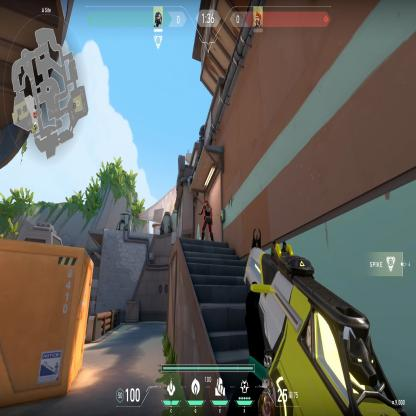enemy: (198, 196, 216, 243)
